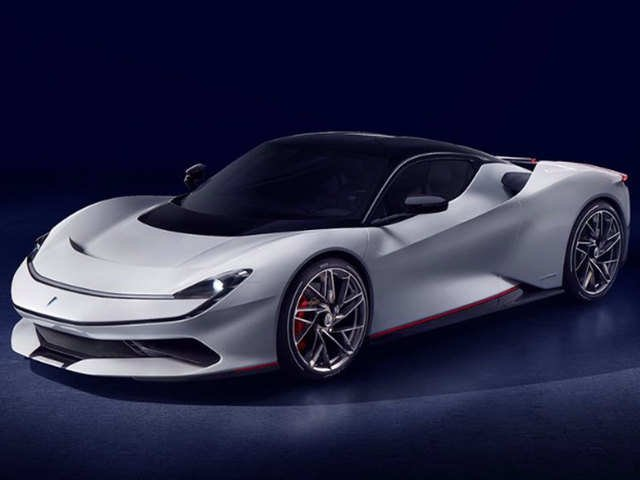car: (7, 126, 637, 391)
